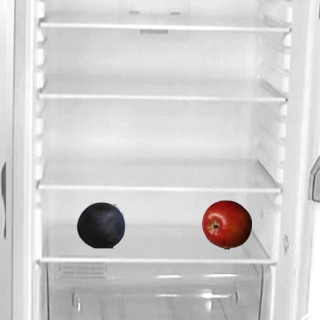Apple Braeburn: (201, 199, 251, 249)
Grape Blue: (75, 199, 125, 249)
